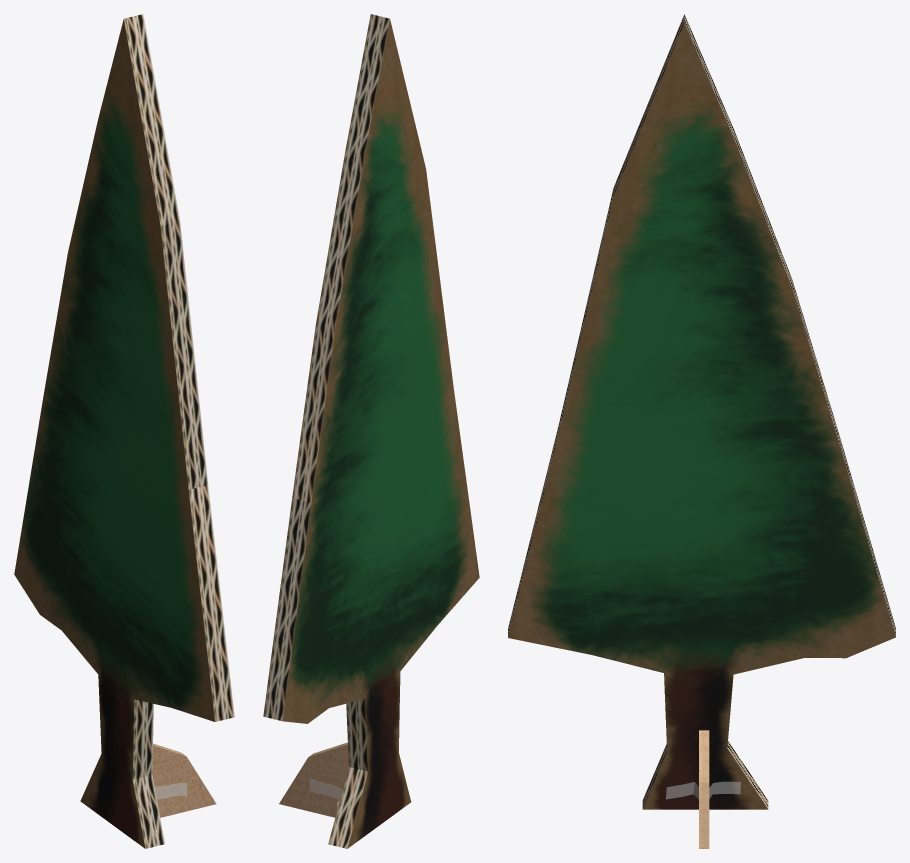
Rendered from Cardboard_tree2.fbx.
3 renders of one model, left to right at view 1: azimuth 30°, elevation 25°; view 2: azimuth 150°, elevation 25°; view 3: azimuth 270°, elevation 25°, orthographic. The views are drawn at different scales.
Visible parts, largest first — view 1: Cardboard_tree2; view 2: Cardboard_tree2; view 3: Cardboard_tree2.
Boxes of the visible parts, x1,y1,x2,y2 form: Cardboard_tree2: [14, 14, 234, 848]; Cardboard_tree2: [263, 14, 479, 848]; Cardboard_tree2: [508, 14, 895, 848].
Size of the model in its own units: 734 by 5690 by 2540.
